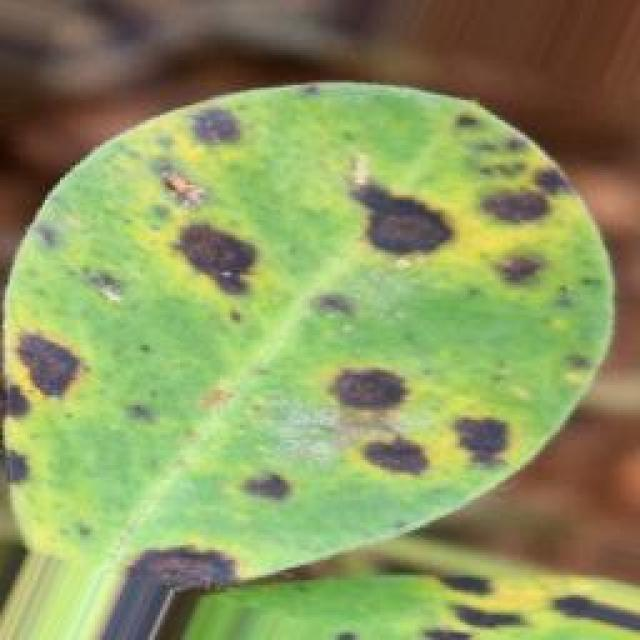Yellowish: (16, 84, 614, 552)
